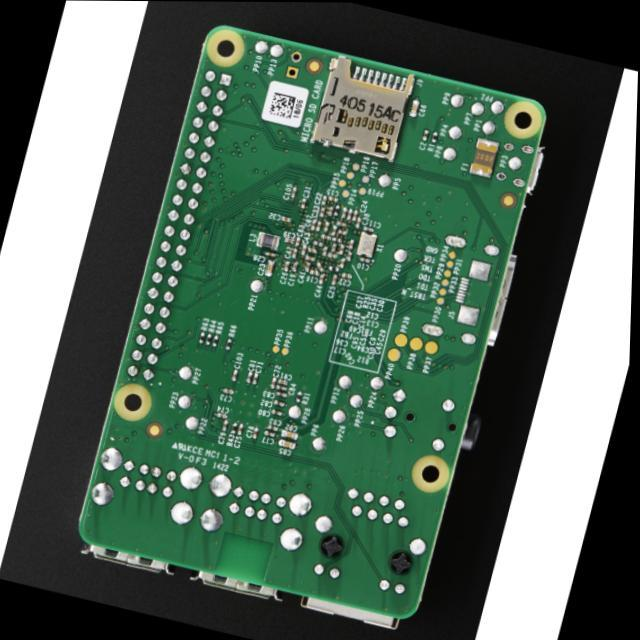Raspberry Pi 1 B-: (81, 27, 545, 628)
